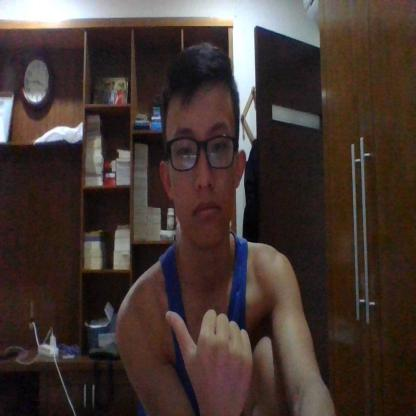right: (165, 298, 254, 416)
